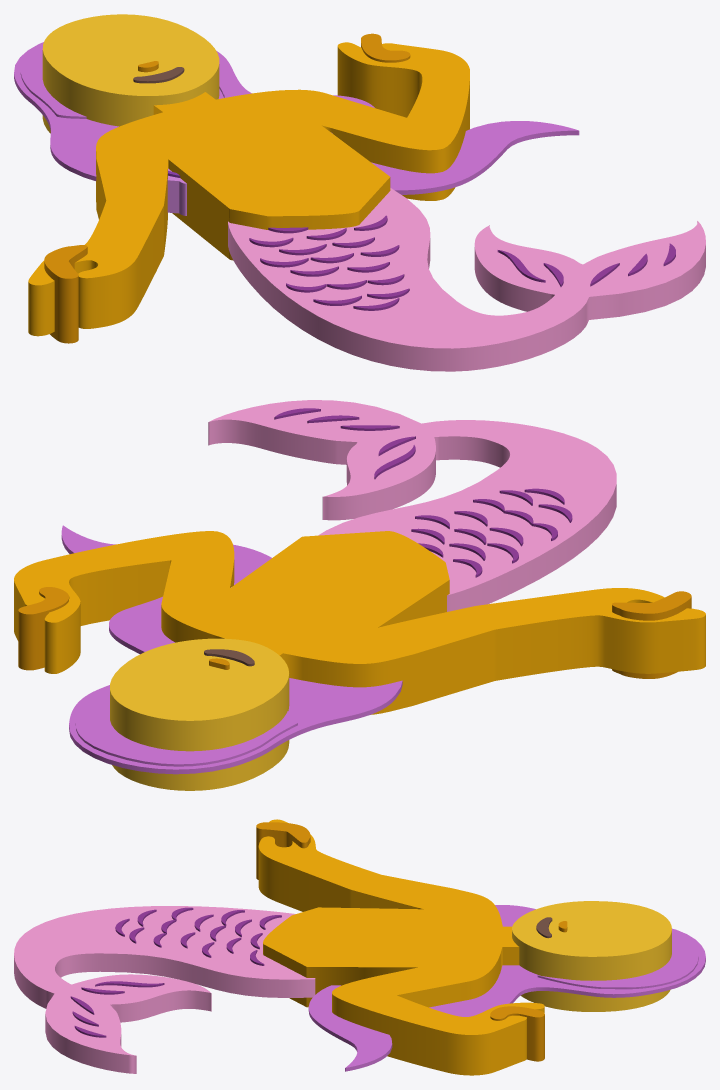
File: emoji_u1f9dc_200d_2640.glb
The picture shows the model from 3 angles, top to bottom: view 1: azimuth 30°, elevation 25°; view 2: azimuth 150°, elevation 25°; view 3: azimuth 270°, elevation 25°; orthographic projection. The views are drawn at different scales.
Visible parts, largest first — view 1: emoji_u1f9dc_200d_2640; view 2: emoji_u1f9dc_200d_2640; view 3: emoji_u1f9dc_200d_2640.
Part boxes in pixels (box(x1,y1,x2,y2)): emoji_u1f9dc_200d_2640: box(14, 14, 705, 371); emoji_u1f9dc_200d_2640: box(14, 400, 705, 790); emoji_u1f9dc_200d_2640: box(14, 819, 705, 1075).
Bounding box in the file's own units: 0.0268 × 0.0034 × 0.0341.
